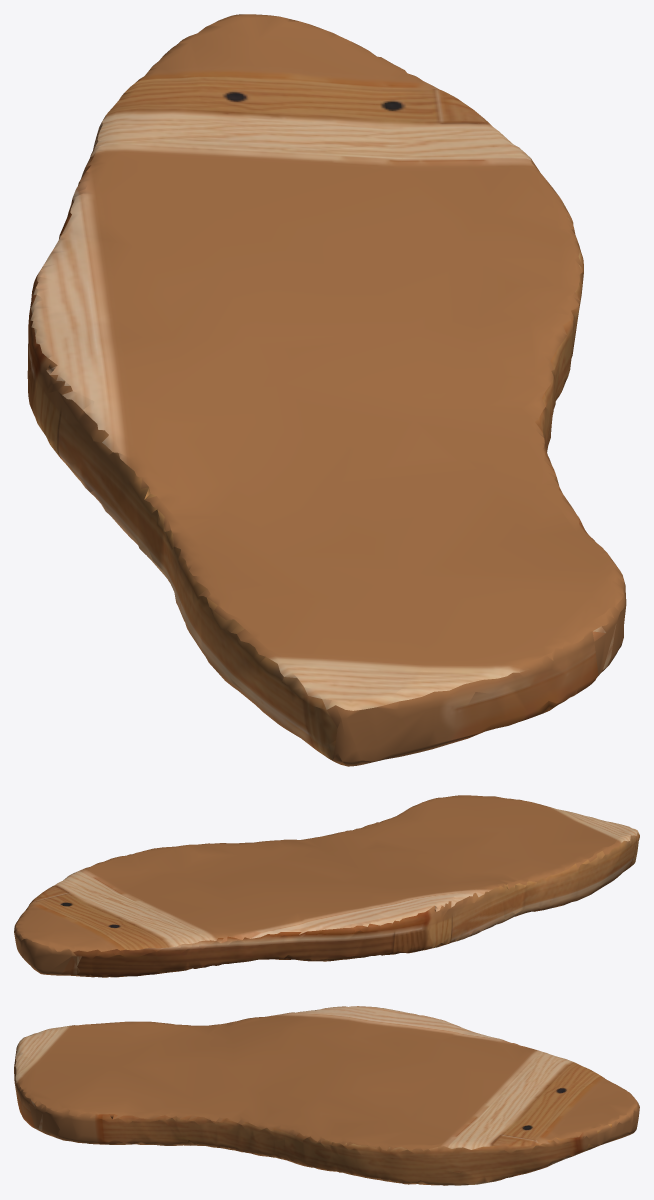
Rendered from Glacier_board11.fbx.
3 views of the same model, one above another, from view 1: azimuth 30°, elevation 25°; view 2: azimuth 150°, elevation 25°; view 3: azimuth 270°, elevation 25° (orthographic). The views are drawn at different scales.
Parts seen in each view (by area): view 1: material_0; view 2: material_0; view 3: material_0.
Part boxes in pixels (bbox=[...]): material_0: bbox=[27, 14, 626, 766]; material_0: bbox=[14, 795, 639, 977]; material_0: bbox=[14, 1006, 639, 1185].
Size of the model in its own units: 0.3573 by 0.0961 by 0.596.
